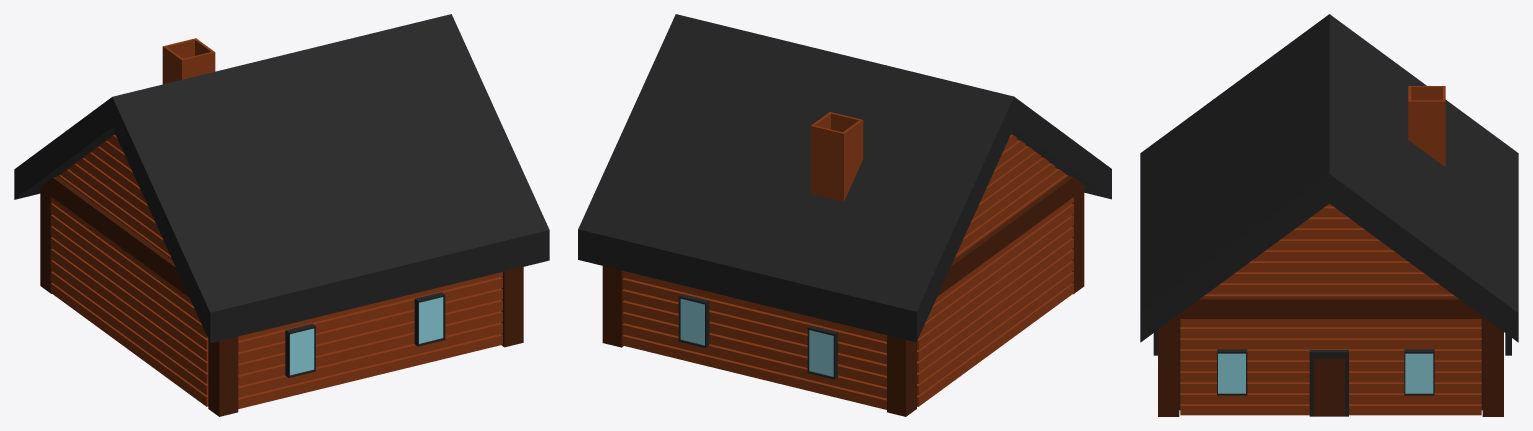
File: Cabin.fbx
3 renders of one model, left to right at view 1: azimuth 30°, elevation 25°; view 2: azimuth 150°, elevation 25°; view 3: azimuth 270°, elevation 25°, orthographic. The views are drawn at different scales.
Parts seen in each view (by area): view 1: Cube.009, Cube.001, Cube.002, Cube.011, Cube.006, Cube.019, Cube.004, Cube.016, Cube.017, Cube.007; view 2: Cube.009, Cube.001, Cube.003, Cube.019, Cube.011, Cube.007, Cube.005, Cube.015, Cube.014, Cube.006; view 3: Cube.009, Cube, Cube.010, Cube.008, Cube.019, Cube.004, Cube.005, Cube.012, Cube.013, Cube.018.
Boxes of the visible parts, x1,y1,x2,y2 form: Cube.009: (14, 14, 549, 343); Cube.001: (50, 134, 208, 406); Cube.002: (238, 272, 502, 408); Cube.011: (42, 176, 188, 296); Cube.006: (208, 336, 238, 416); Cube.019: (162, 38, 215, 84); Cube.004: (501, 267, 523, 347); Cube.016: (414, 292, 445, 346); Cube.017: (285, 323, 315, 377); Cube.007: (40, 188, 52, 293); Cube.009: (578, 14, 1111, 342); Cube.001: (917, 133, 1073, 406); Cube.003: (622, 270, 886, 409); Cube.019: (810, 112, 863, 201); Cube.011: (937, 176, 1086, 296); Cube.007: (887, 335, 916, 416); Cube.005: (602, 266, 623, 347); Cube.015: (678, 294, 709, 347); Cube.014: (807, 325, 837, 379); Cube.006: (1072, 189, 1084, 294); Cube.009: (1140, 14, 1518, 342); Cube: (1180, 203, 1481, 415); Cube.010: (1173, 297, 1485, 318); Cube.008: (1309, 350, 1348, 416); Cube.019: (1408, 86, 1445, 166); Cube.004: (1158, 319, 1179, 416); Cube.005: (1482, 319, 1503, 416); Cube.012: (1404, 349, 1434, 395); Cube.013: (1217, 349, 1247, 395); Cube.018: (1179, 319, 1482, 410).
Size of the model in its own units: 296 by 216 by 296.
